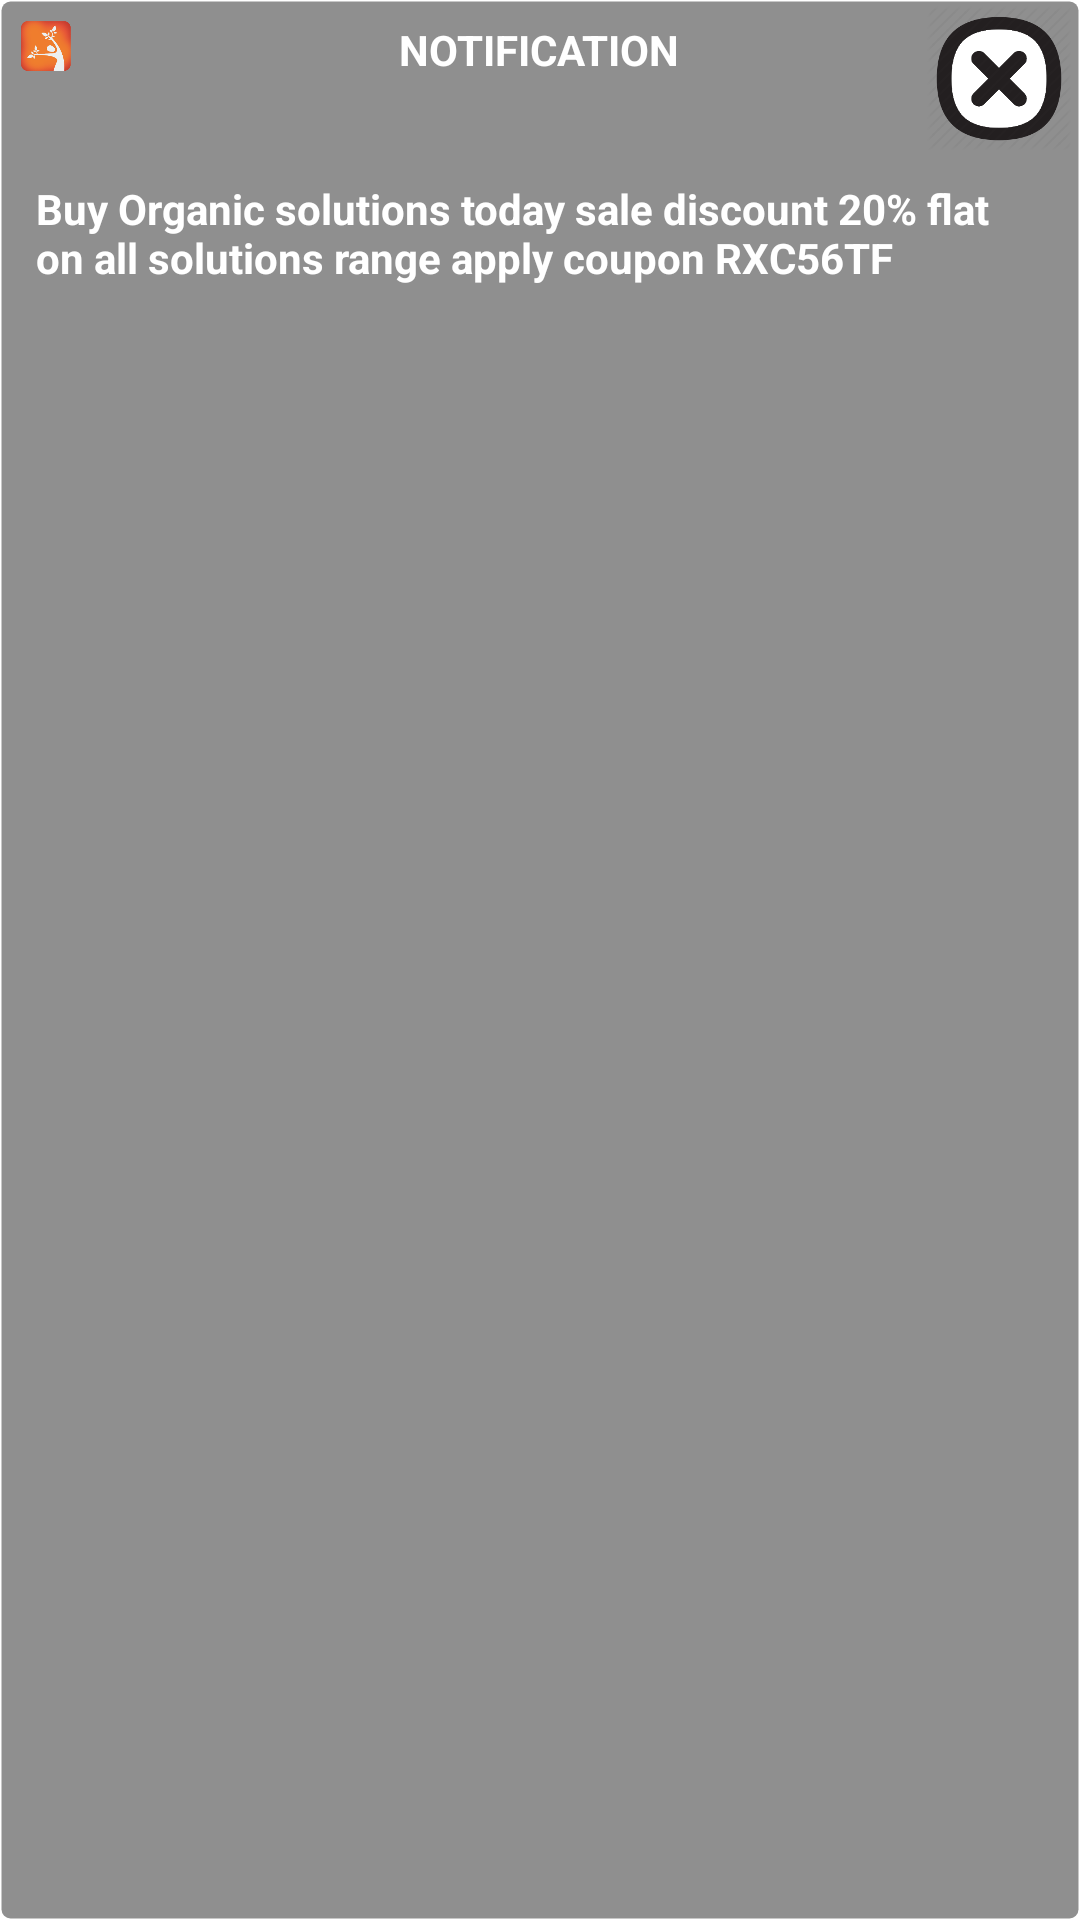

Icons on this 1080×1920 Android screen, each with its box as Rect(x1, y1, x2, y2):
close: Rect(937, 17, 1061, 140)
